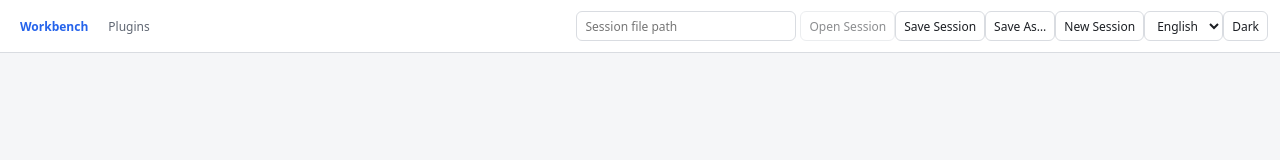
Test: TopBar (ipc-ui.md §4.1) › dismisses the save toast manually (P8)
Click the button "Save Session" at (940, 26), box [895,11,985,41]
Wait 500 ms
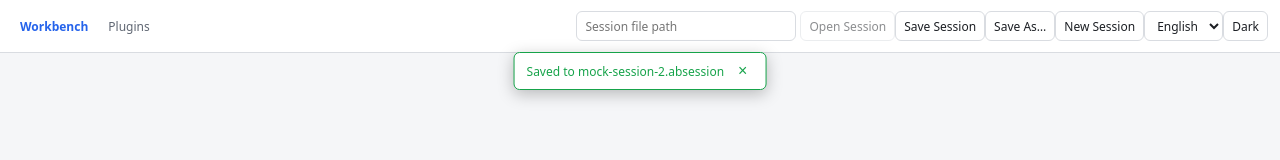
Check: the message "Saved to mock-session-2.absession ×" is shown, box [514,52,766,90]
Click the button named "Dismiss" at (743, 71), box [732,61,753,81]
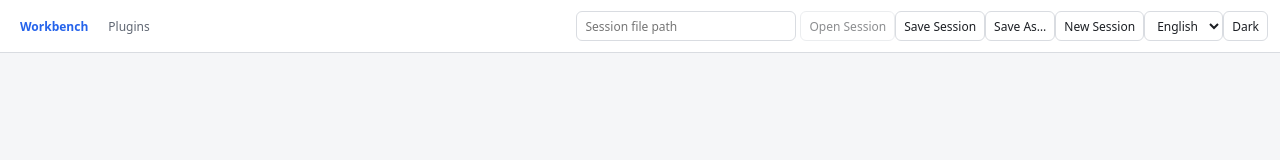
Check: the message with test id "save-notice" is gone
